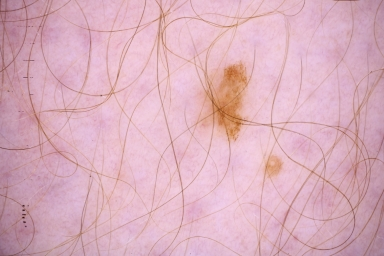melanoma: (214, 62, 242, 136), (266, 158, 280, 176)
